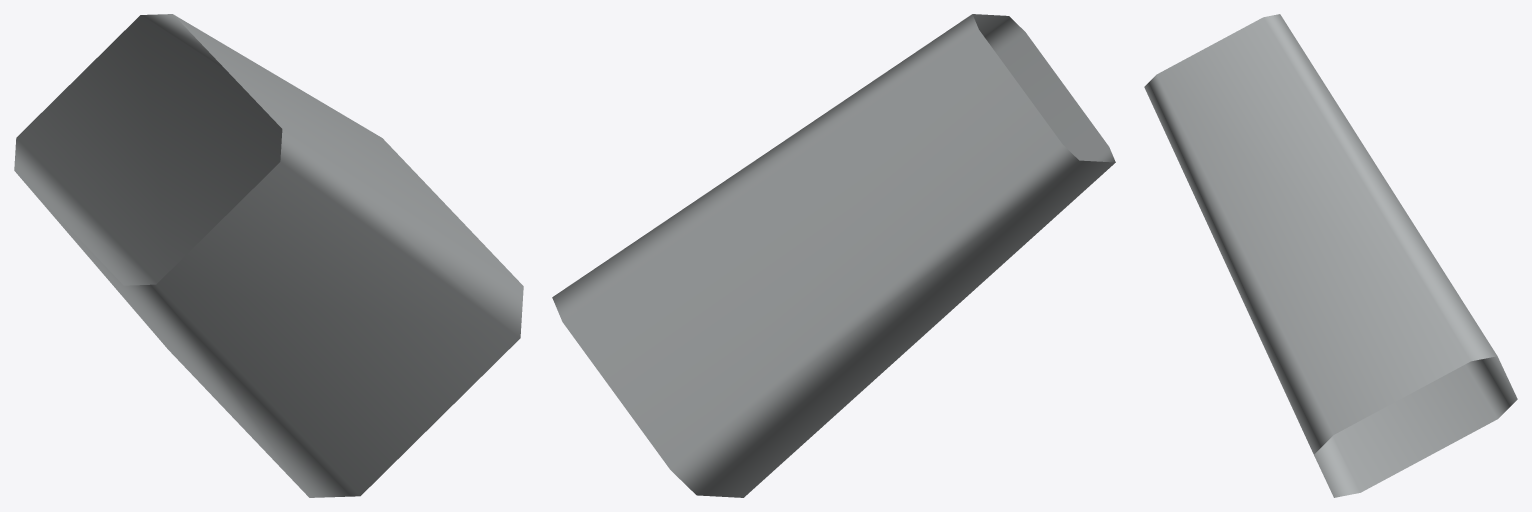
Rendered from Drone_002_R_Finger_001.fbx.
3 views of the same model, side by side, from view 1: azimuth 30°, elevation 25°; view 2: azimuth 150°, elevation 25°; view 3: azimuth 270°, elevation 25° (orthographic). The views are drawn at different scales.
Visible parts, largest first — view 1: Drone_002_R_Finger_001; view 2: Drone_002_R_Finger_001; view 3: Drone_002_R_Finger_001.
Part boxes in pixels (x1=…): Drone_002_R_Finger_001: x1=14, y1=14, x2=523, y2=497; Drone_002_R_Finger_001: x1=552, y1=14, x2=1115, y2=497; Drone_002_R_Finger_001: x1=1144, y1=14, x2=1517, y2=497.
Bounding box in the file's own units: 3.7 × 3.17 × 3.79.
